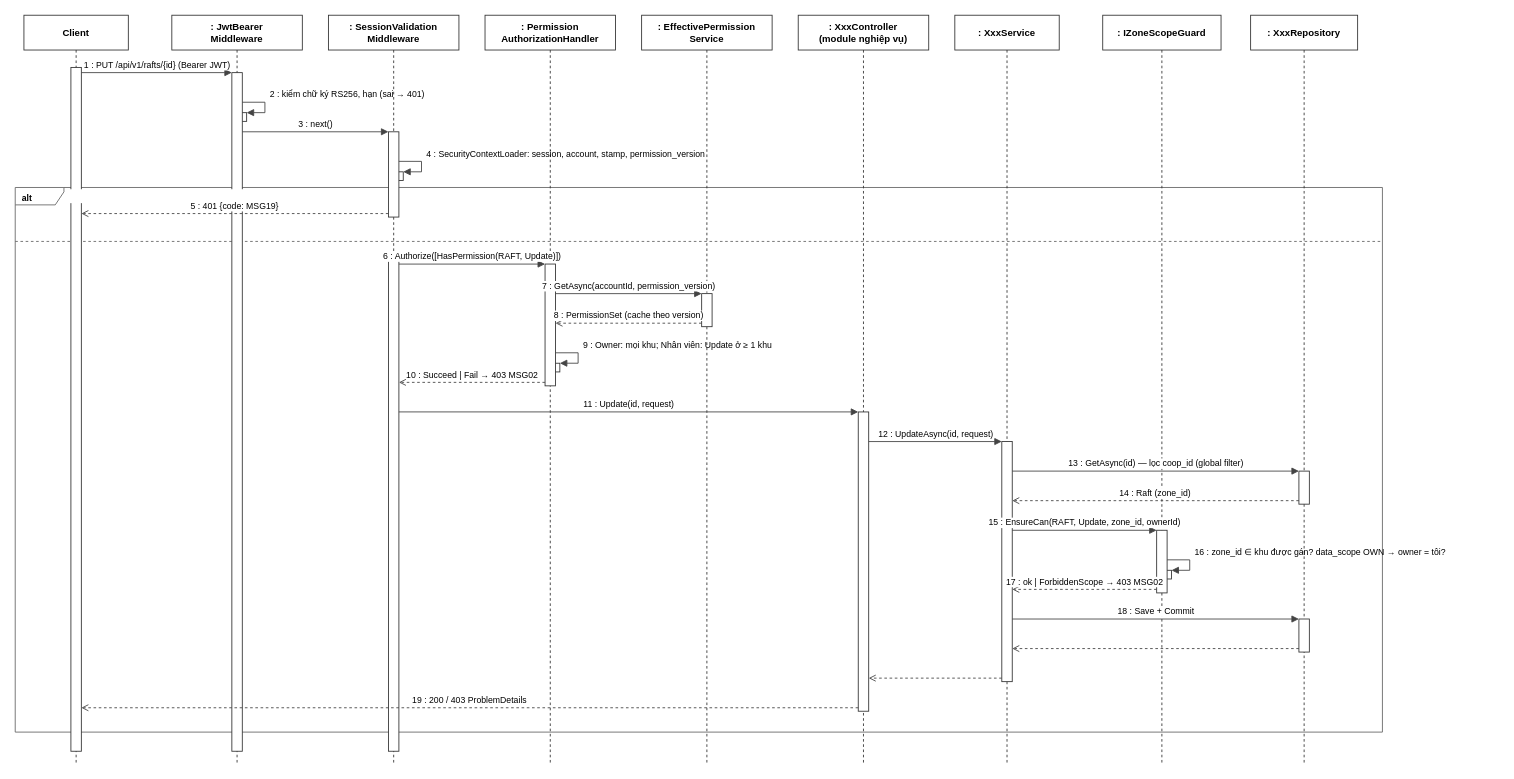
Some shapes in this 1514 by 779 pixel diagram are drawn without their labels. Each missing label, with the centre of its shape:
"[hợp lệ]" belongs at pixel 43 251.
"[session đã thu hồi / hết hạn / stamp đổi / LOCKED]" belongs at pixel 196 196.
